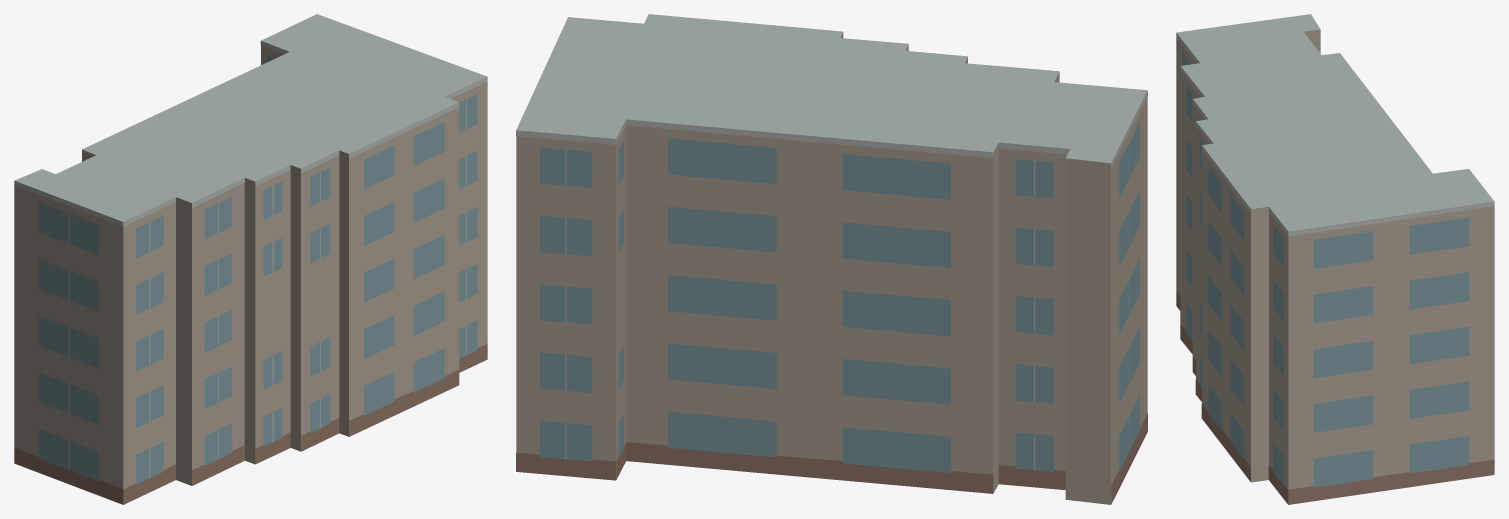
File: survey-upis-32700203.glb
3 views of the same model, side by side, from view 1: azimuth 30°, elevation 25°; view 2: azimuth 150°, elevation 25°; view 3: azimuth 270°, elevation 25° (orthographic). The views are drawn at different scales.
Parts seen in each view (by area): view 1: survey-upis-32700203.tmp; view 2: survey-upis-32700203.tmp; view 3: survey-upis-32700203.tmp.
Boxes of the visible parts, box(x1,y1,x2,y2) form: survey-upis-32700203.tmp: box(14, 14, 487, 504); survey-upis-32700203.tmp: box(516, 14, 1147, 504); survey-upis-32700203.tmp: box(1176, 14, 1494, 504).
Size of the model in its own units: 23.99 by 14.05 by 14.84.
